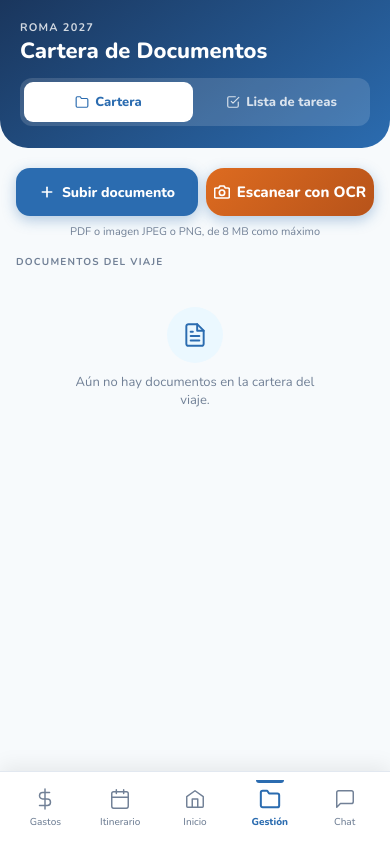
Test: Cartera de Documentos: escanear con OCR › abre la ventana «Escanear documento» desde el botón de la cartera
Check: the text "Documentos del viaje" is shown, box [16, 255, 164, 269]
Click the button "Escanear con OCR". click: click(290, 192)
box: [206, 168, 374, 216]
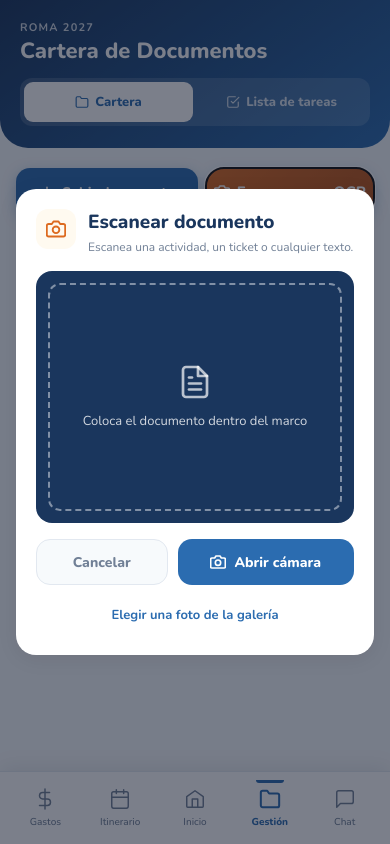
Check: the dialog "Escanear documento" is shown
